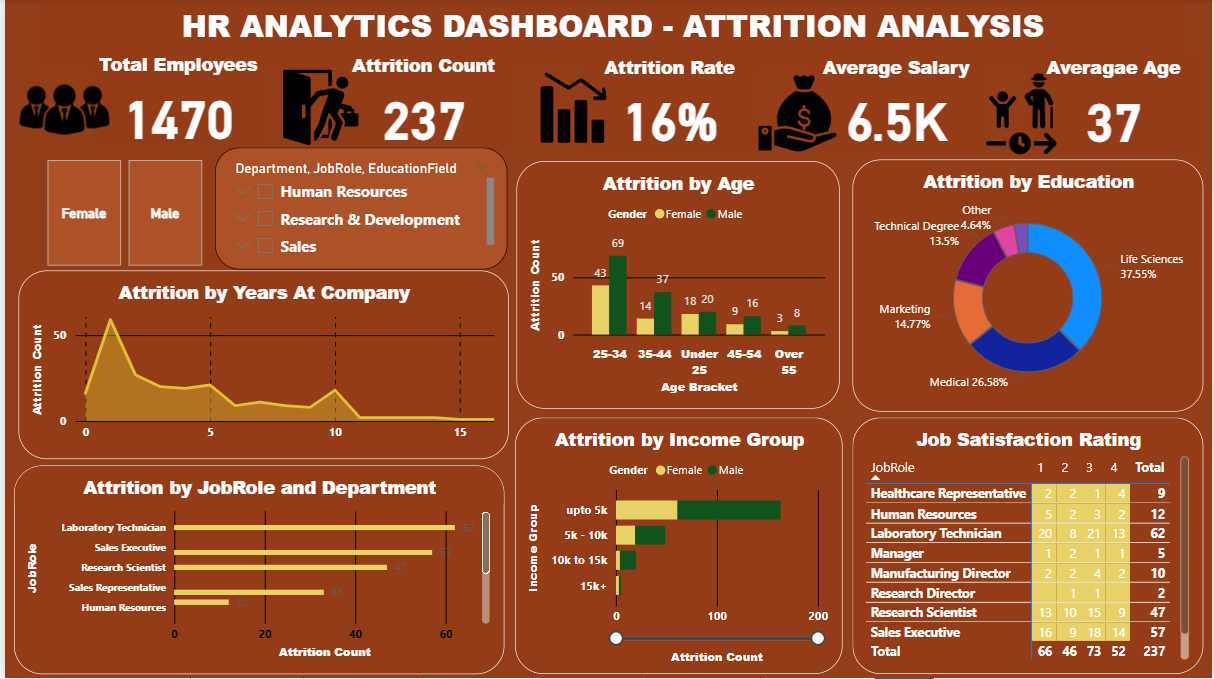

Layout of this report page (visuals, bound fields, positions):
{"tool":"powerbi","page":{"name":"Page 1","canvas":[1280,720],"ordinal":0},"visuals":[{"type":"textbox","box":[39.3,0,1209.8,72.1],"z":0},{"type":"card","title":"Attrition Rate","fields":{"Values":["Employee.Attrition Rate %"]},"box":[612.4,58.9,184.5,103],"z":1000},{"type":"card","title":"Total Employees","fields":{"Values":["Employee.Total Employees"]},"box":[91.5,55.9,183.1,103.4],"z":2000},{"type":"card","title":"Averagae Age","fields":{"Values":["Employee.avg Age"]},"box":[1083.2,58.9,184.5,103.4],"z":3000},{"type":"card","title":"Attrition Count","fields":{"Values":["Employee.Attrition Count"]},"box":[351.5,57.3,184.5,103],"z":4000},{"type":"card","title":"Average Salary","fields":{"Values":["Employee.Avg Monthly Income"]},"box":[852.6,58.9,184.5,103],"z":5000},{"type":"advancedSlicerVisual","fields":{"Values":["Employee.Gender"]},"box":[39.3,165.6,262.3,123],"z":6000},{"type":"clusteredColumnChart","title":"Attrition by Age ","fields":{"Category":["Employee.Age Bracket"],"Y":["Employee.Attrition Count"],"Series":["Employee.Gender"]},"box":[542.4,171.2,342.4,262.7],"z":7000},{"type":"donutChart","title":"Attrition by Education","fields":{"Category":["Employee.EducationField"],"Y":["Employee.Attrition Count"]},"box":[898.4,170.5,372.1,267.2],"z":8000},{"type":"clusteredBarChart","title":"Attrition by JobRole and Department","fields":{"Category":["Employee.JobRole"],"Y":["Employee.Attrition Count"],"Series":["Employee.Department"]},"box":[9.8,495.1,519.7,221.3],"z":9000},{"type":"areaChart","title":"Attrition by Years At Company","fields":{"Category":["Employee.YearsAtCompany"],"Y":["Employee.Attrition Count"]},"box":[14.8,288.5,519.7,200],"z":10000},{"type":"pivotTable","title":"Job Satisfaction Rating","fields":{"Rows":["Employee.JobRole"],"Columns":["Employee.JobSatisfaction"],"Values":["Employee.Attrition Count"]},"box":[898.4,444.3,372.1,272.1],"z":11000},{"type":"image","box":[289.5,63.6,90,102],"z":12000},{"type":"image","box":[4.8,58.9,116,116],"z":13000},{"type":"slicer","fields":{"Values":["Employee.Department","Employee.JobRole","Employee.EducationField"]},"box":[223,157.4,309.8,129.5],"z":14000},{"type":"image","box":[1027.1,71.2,100,100],"z":15000},{"type":"image","box":[556.7,71.6,93,87],"z":16000},{"type":"image","box":[793.7,73.2,93,96],"z":17000},{"type":"barChart","title":"Attrition by Income Group ","fields":{"Series":["Employee.Gender"],"Category":["Employee.Income Group"],"Y":["Employee.Attrition Count"]},"box":[541,444.3,347.5,272.1],"z":18000}]}

Visuals, with their boxes in screenshot pixels (x1, y1, x2, y2), scaled from the page's 1280x720 canvas onto the 1214x679 screenshot:
textbox: l=37, t=0, r=1185, b=68
"Attrition Rate" card: l=581, t=56, r=756, b=153
"Total Employees" card: l=87, t=53, r=260, b=150
"Averagae Age" card: l=1027, t=56, r=1202, b=153
"Attrition Count" card: l=333, t=54, r=508, b=151
"Average Salary" card: l=809, t=56, r=984, b=153
advancedSlicerVisual - Employee.Gender: l=37, t=156, r=286, b=272
"Attrition by Age " clusteredColumnChart: l=514, t=161, r=839, b=409
"Attrition by Education" donutChart: l=852, t=161, r=1205, b=413
"Attrition by JobRole and Department" clusteredBarChart: l=9, t=467, r=502, b=676
"Attrition by Years At Company" areaChart: l=14, t=272, r=507, b=461
"Job Satisfaction Rating" pivotTable: l=852, t=419, r=1205, b=676
image: l=275, t=60, r=360, b=156
image: l=5, t=56, r=115, b=165
slicer - Employee.Department x Employee.JobRole: l=212, t=148, r=505, b=271
image: l=974, t=67, r=1069, b=161
image: l=528, t=68, r=616, b=150
image: l=753, t=69, r=841, b=160
"Attrition by Income Group " barChart: l=513, t=419, r=843, b=676
